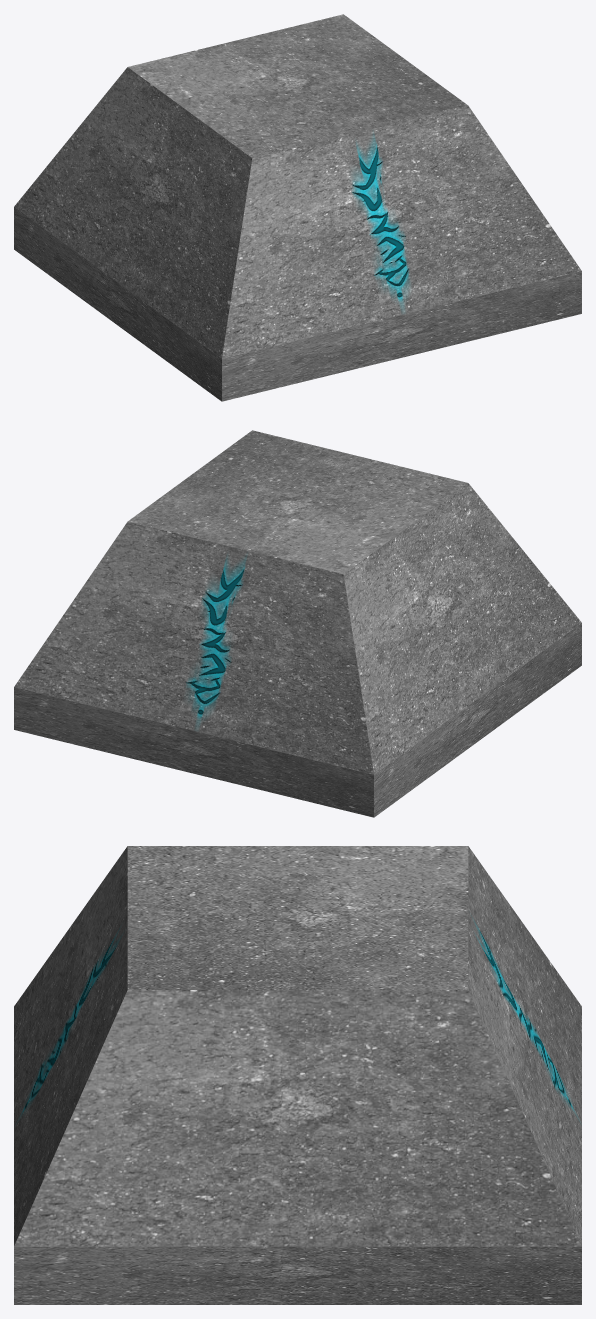
File: Pedestal_Runed.FBX
The picture shows the model from 3 angles, top to bottom: view 1: azimuth 30°, elevation 25°; view 2: azimuth 150°, elevation 25°; view 3: azimuth 270°, elevation 25°; orthographic projection. The views are drawn at different scales.
Visible parts, largest first — view 1: Box001; view 2: Box001; view 3: Box001.
Part boxes in pixels (x1,y1,x2,y2): Box001: (14, 14, 581, 401); Box001: (14, 430, 581, 817); Box001: (14, 846, 581, 1304).
Size of the model in its own units: 35 by 18.15 by 35.
